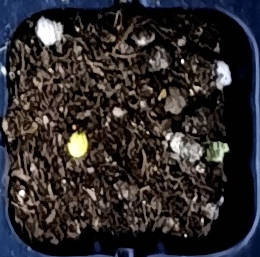pepper seed: (22, 48, 112, 207)
